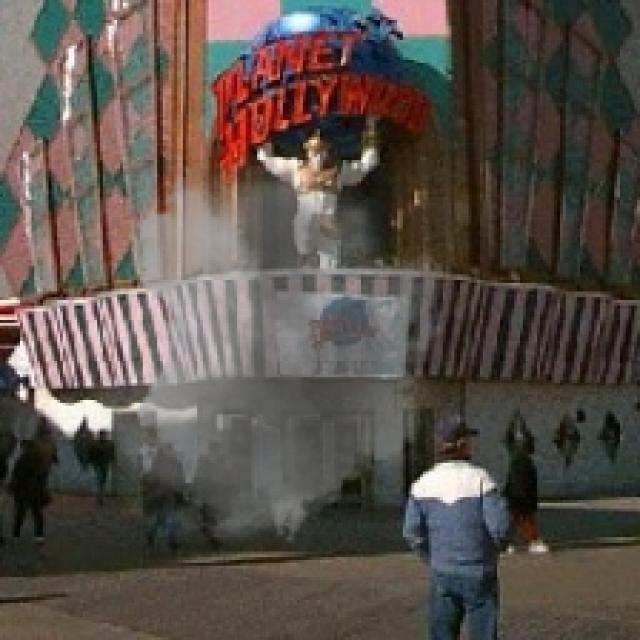Smoke: (54, 152, 463, 557)
